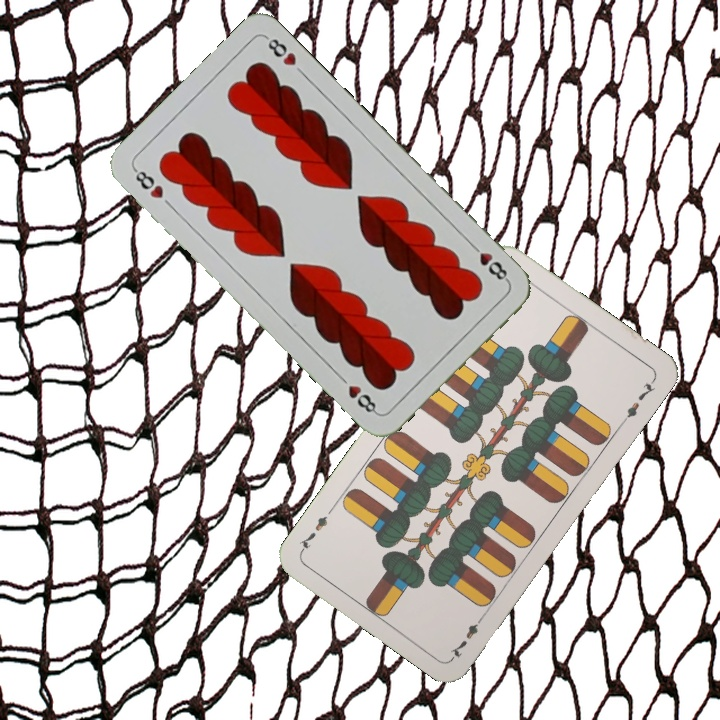E7: (447, 609, 488, 662)
H8: (465, 239, 512, 285), (129, 164, 166, 201)
